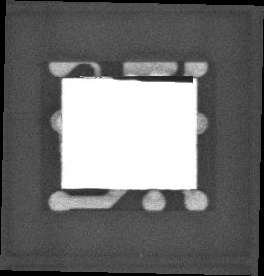DIE_BROKEN: (113, 74, 197, 84)
